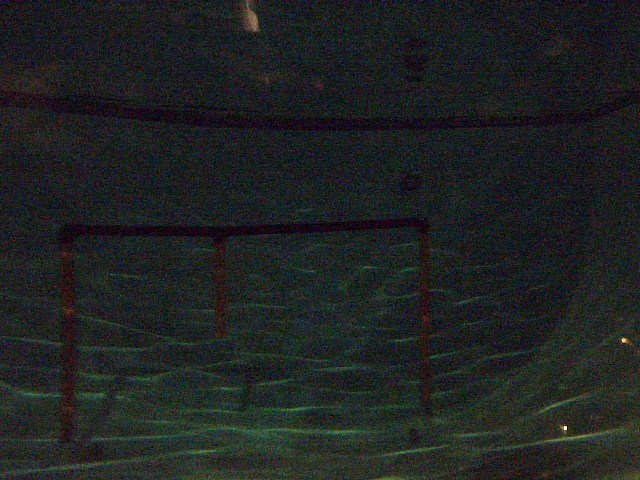Gate: (60, 237, 81, 441), (418, 226, 434, 422), (212, 239, 228, 335)
